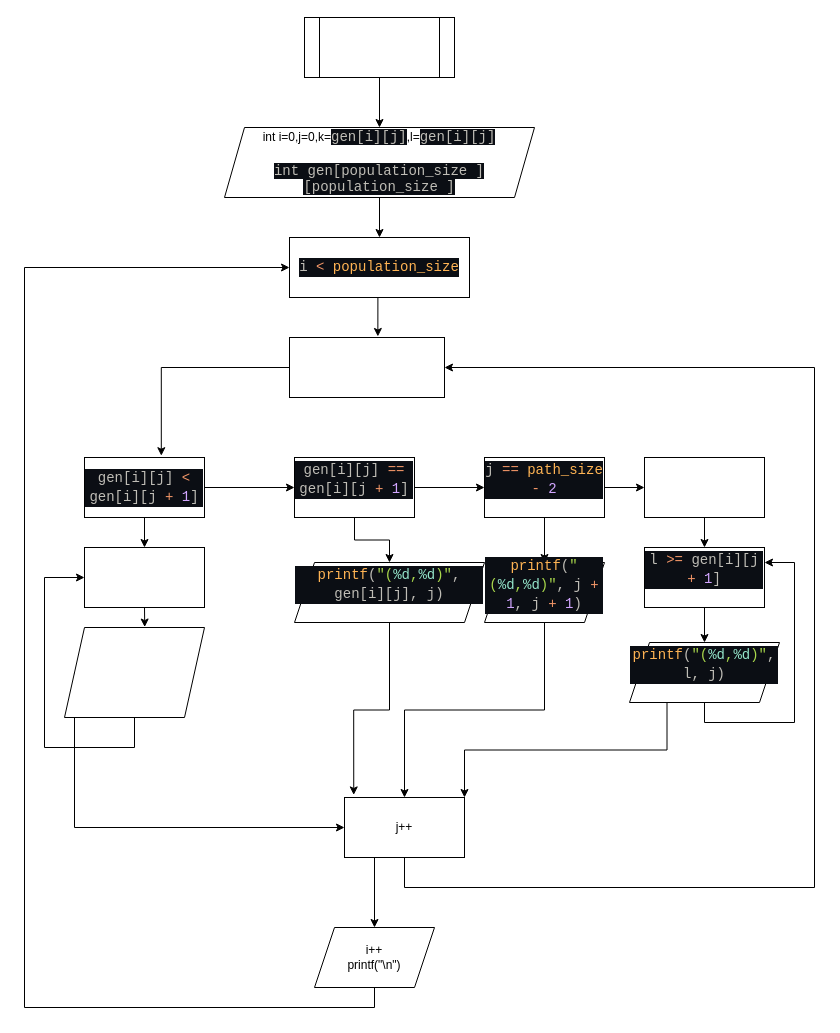
The diagram is 840 pixels wide and 1033 high, and some of its shapes have lost their labels. Here are the shapes that lost their labels. From the top down, the centre of each, then its label:
(x=379, y=47): void path_plannning
(x=366, y=367): j < path_size - 1
(x=704, y=487): gen [ i ][ j ] > gen [ i ][ j + 1 ]
(x=144, y=577): k <= gen [ i ][ j + 1 ]
(x=134, y=672): printf ( "( %d , %d )" , k , j ) ; k++
